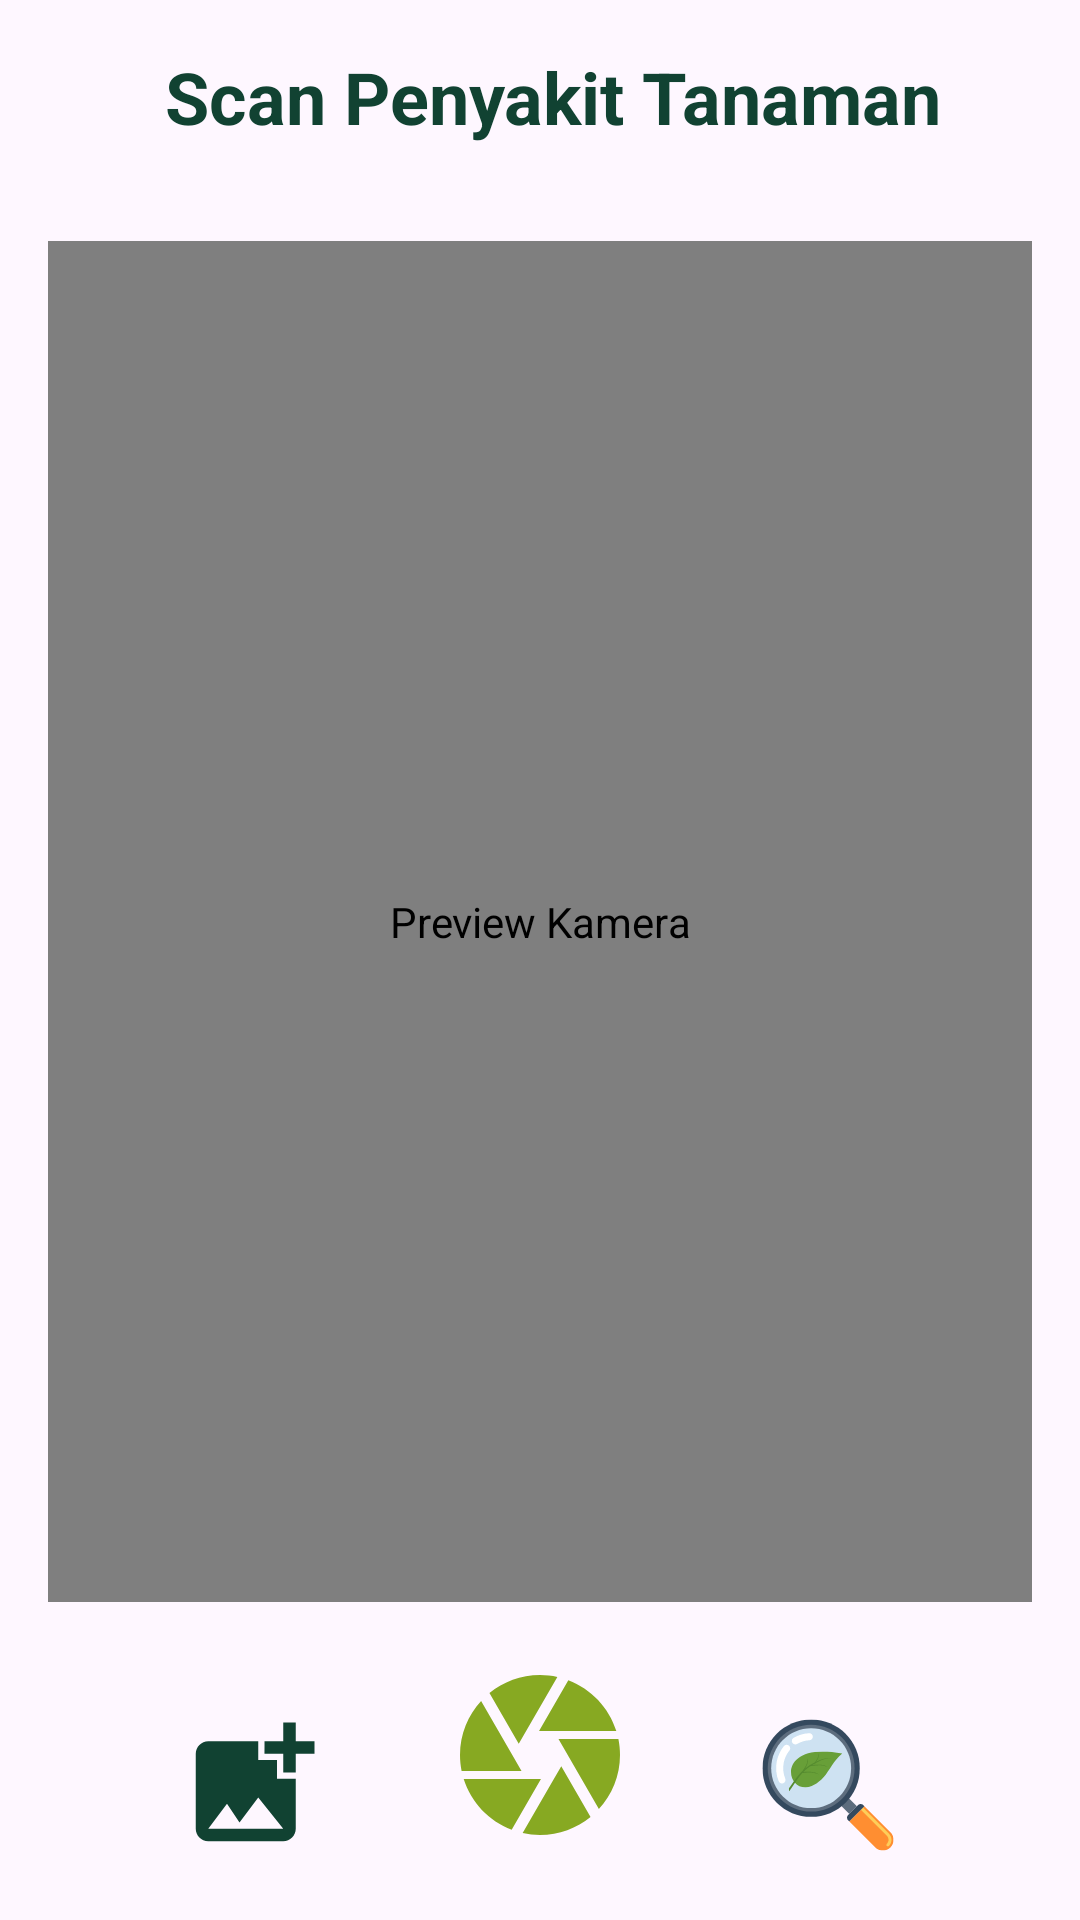

Point at icon controls on the screen. Image size 1080px x 1920px, points as (x=x, y=y).
Tombol Ambil Gambar: (x=540, y=1755)
Tombol Mulai analisis: (x=828, y=1785)
Tombol Tambah dari Galeri: (x=255, y=1782)
